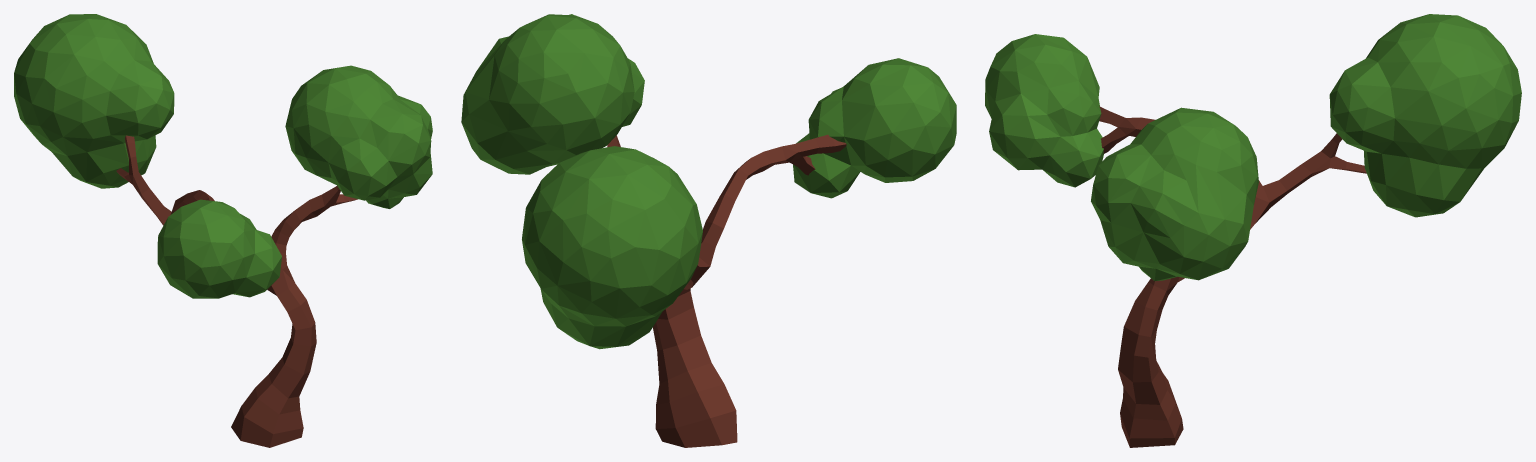
Rendered from Arbol5.obj.
3 views of the same model, side by side, from view 1: azimuth 30°, elevation 25°; view 2: azimuth 150°, elevation 25°; view 3: azimuth 270°, elevation 25° (orthographic). The views are drawn at different scales.
Parts seen in each view (by area): view 1: polySurface5; view 2: polySurface5; view 3: polySurface5.
Boxes of the visible parts, x1,y1,x2,y2 form: polySurface5: (14, 14, 432, 447); polySurface5: (461, 14, 956, 447); polySurface5: (985, 14, 1521, 447).
Bounding box in the file's own units: 3.25 × 3.25 × 4.13.
